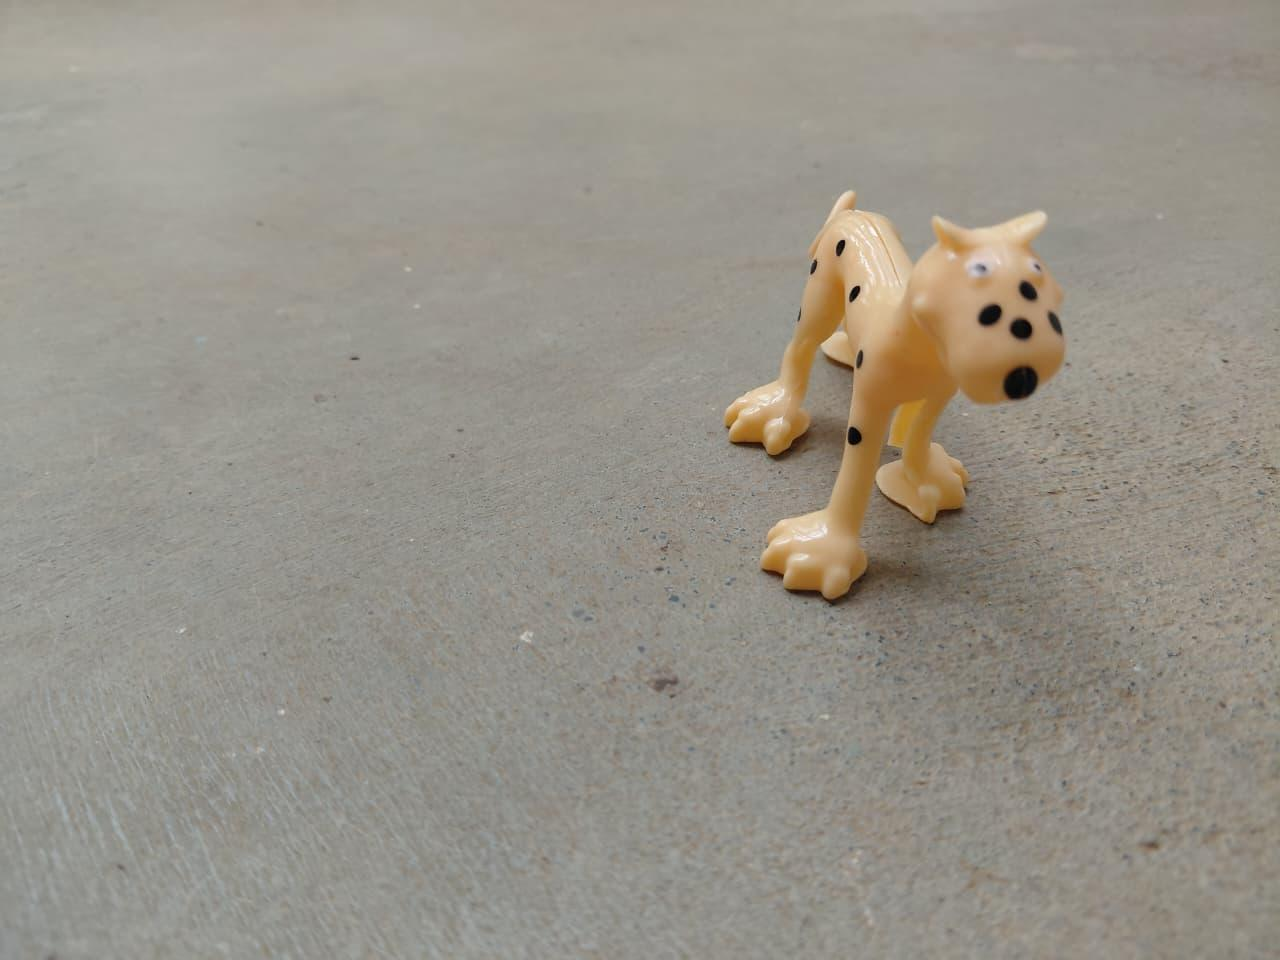cheetah: (722, 144, 1068, 615)
